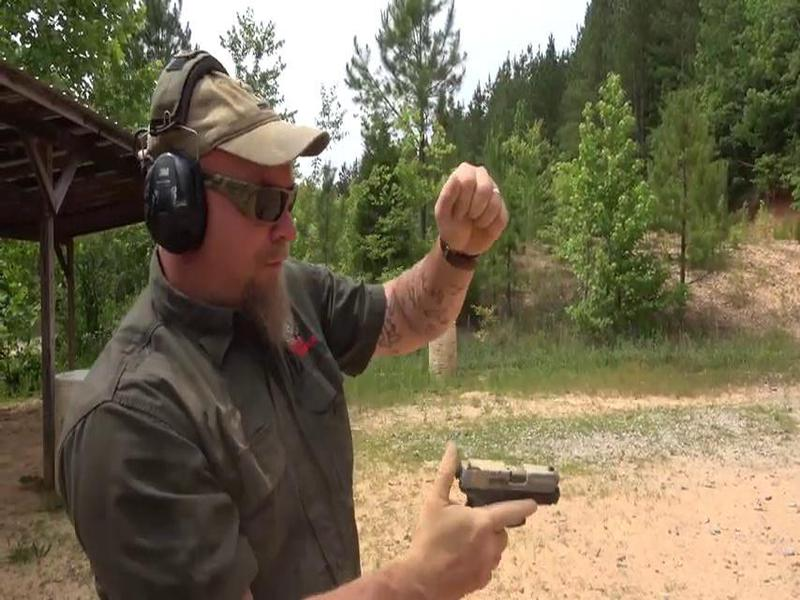Pistola: (407, 443, 575, 553)
